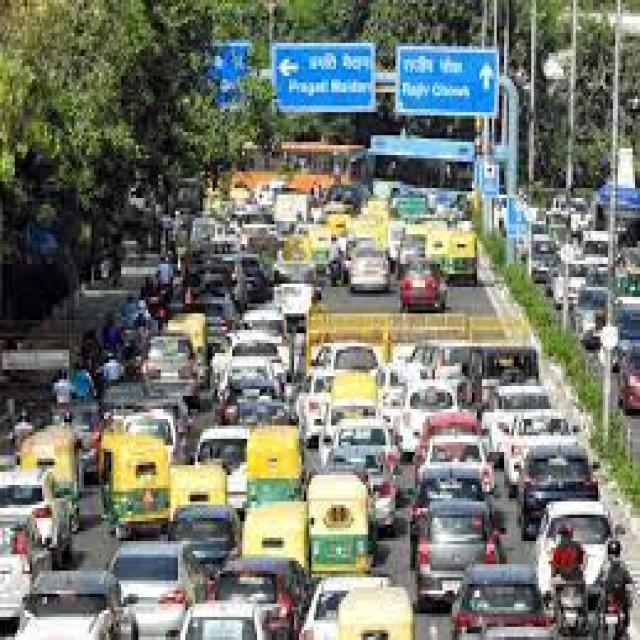vehicle: (538, 521, 640, 636), (202, 136, 382, 187), (306, 458, 378, 577), (2, 474, 92, 564), (0, 578, 126, 640), (455, 566, 550, 640), (324, 575, 432, 640), (420, 507, 513, 581), (248, 400, 314, 498), (413, 455, 517, 516), (99, 439, 172, 524), (314, 333, 390, 403), (183, 577, 264, 640), (223, 328, 293, 400), (20, 417, 88, 491), (517, 457, 616, 506), (149, 328, 211, 406), (492, 379, 568, 442), (229, 510, 312, 559), (394, 257, 463, 315), (445, 214, 497, 288), (268, 251, 325, 318), (189, 496, 243, 562), (206, 246, 264, 302), (472, 327, 530, 380), (419, 436, 487, 478), (350, 244, 392, 310), (178, 272, 230, 324), (424, 400, 479, 448), (413, 223, 431, 248)
